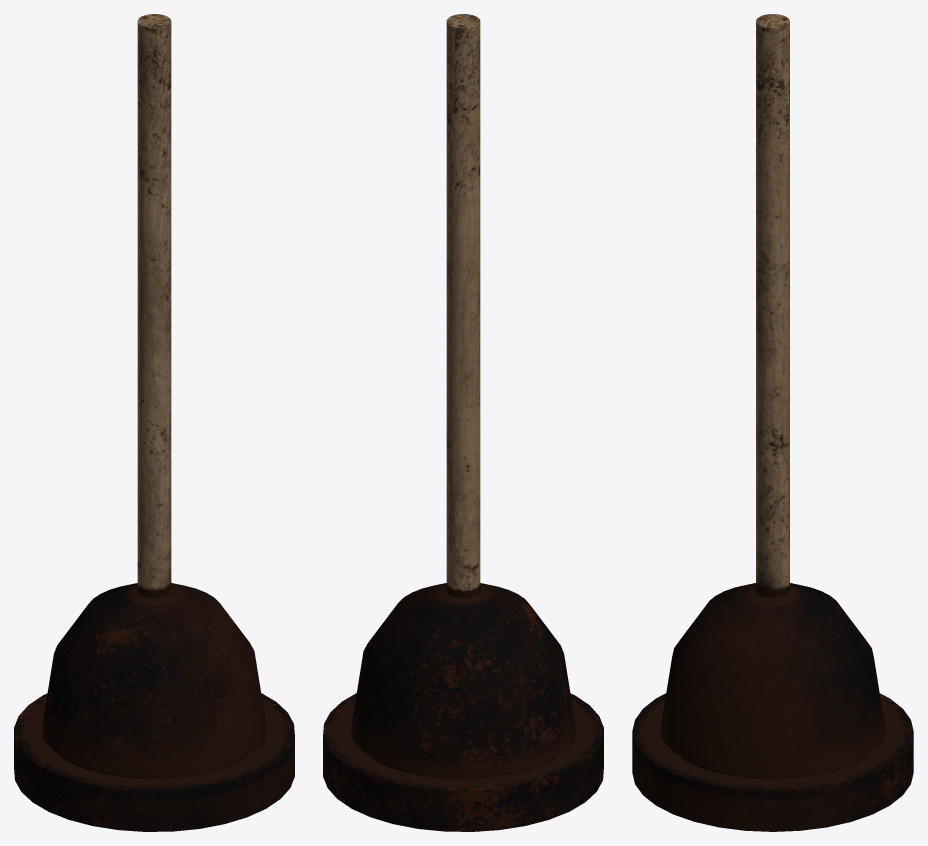
Rendered from Plunger.fbx.
The picture shows the model from 3 angles, left to right: view 1: azimuth 30°, elevation 25°; view 2: azimuth 150°, elevation 25°; view 3: azimuth 270°, elevation 25°; orthographic projection.
Visible parts, largest first — view 1: Plunger, PlungerHolder; view 2: Plunger, PlungerHolder; view 3: Plunger, PlungerHolder.
Part boxes in pixels (x1,y1,x2,y2): Plunger: (42, 14, 266, 778); PlungerHolder: (14, 693, 294, 831); Plunger: (351, 14, 575, 778); PlungerHolder: (323, 693, 603, 831); Plunger: (660, 14, 885, 778); PlungerHolder: (632, 693, 913, 831).
Size of the model in its own units: 0.25 by 0.25 by 0.7366.
